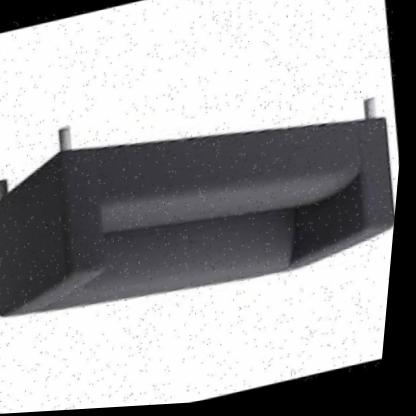Sofa: (0, 44, 412, 359)
